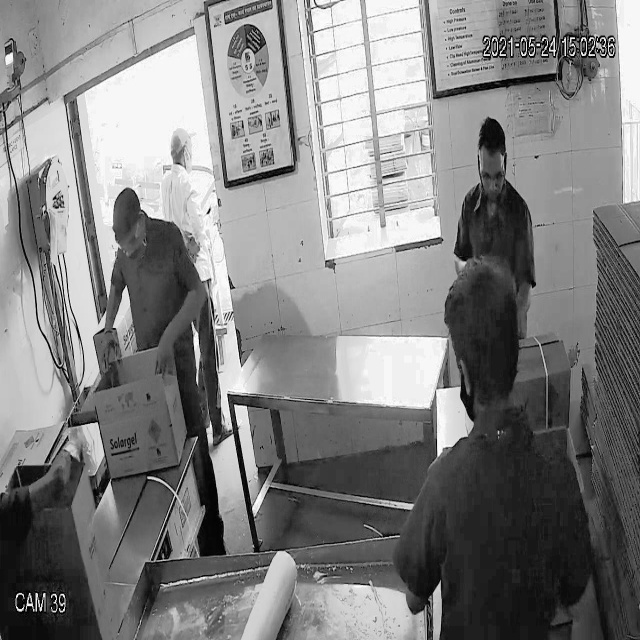Gafas: (110, 226, 146, 258)
